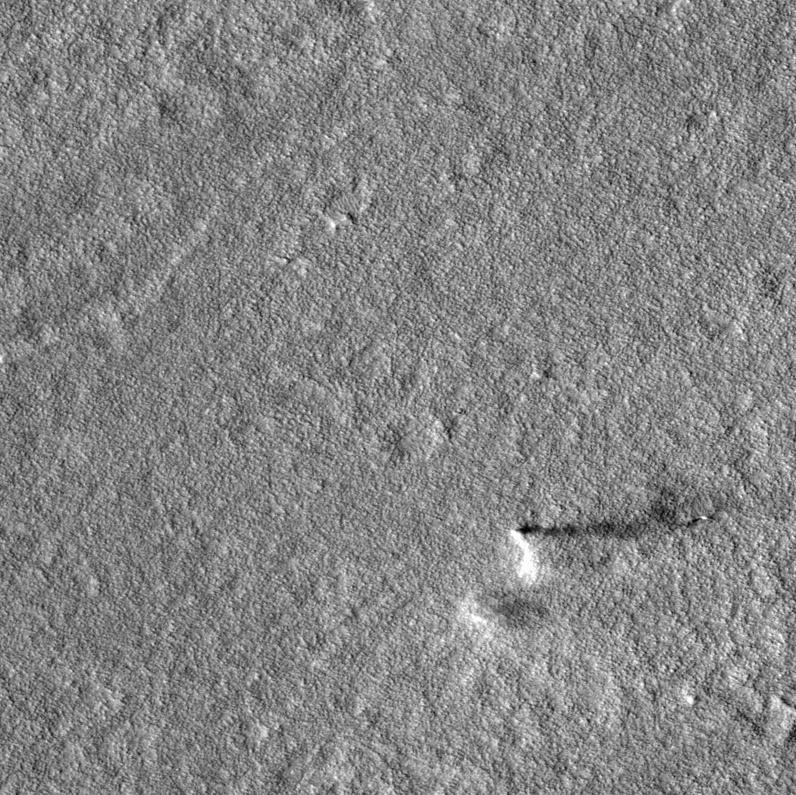dust_devil: (508, 498, 682, 586), (457, 590, 552, 639)
